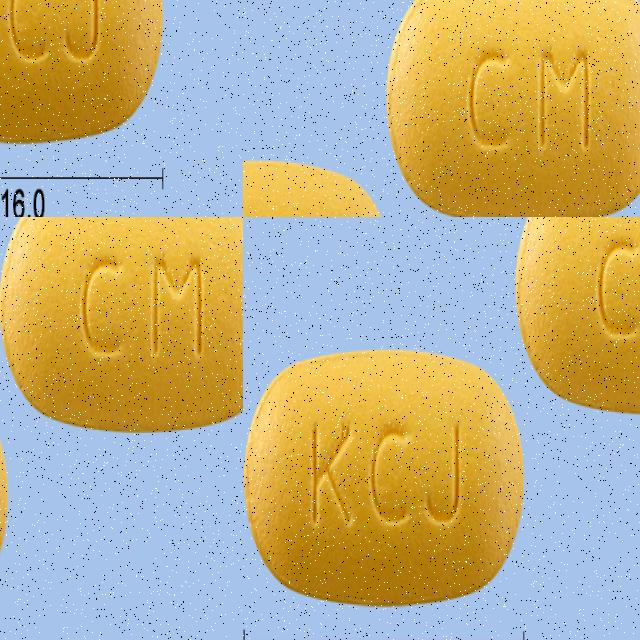Ciproc: (0, 0, 134, 151), (163, 0, 243, 154)
Ciroctan: (0, 217, 243, 401)
Clamon Tab: (243, 338, 529, 611), (514, 217, 640, 415)
Claritin: (386, 0, 640, 209)
